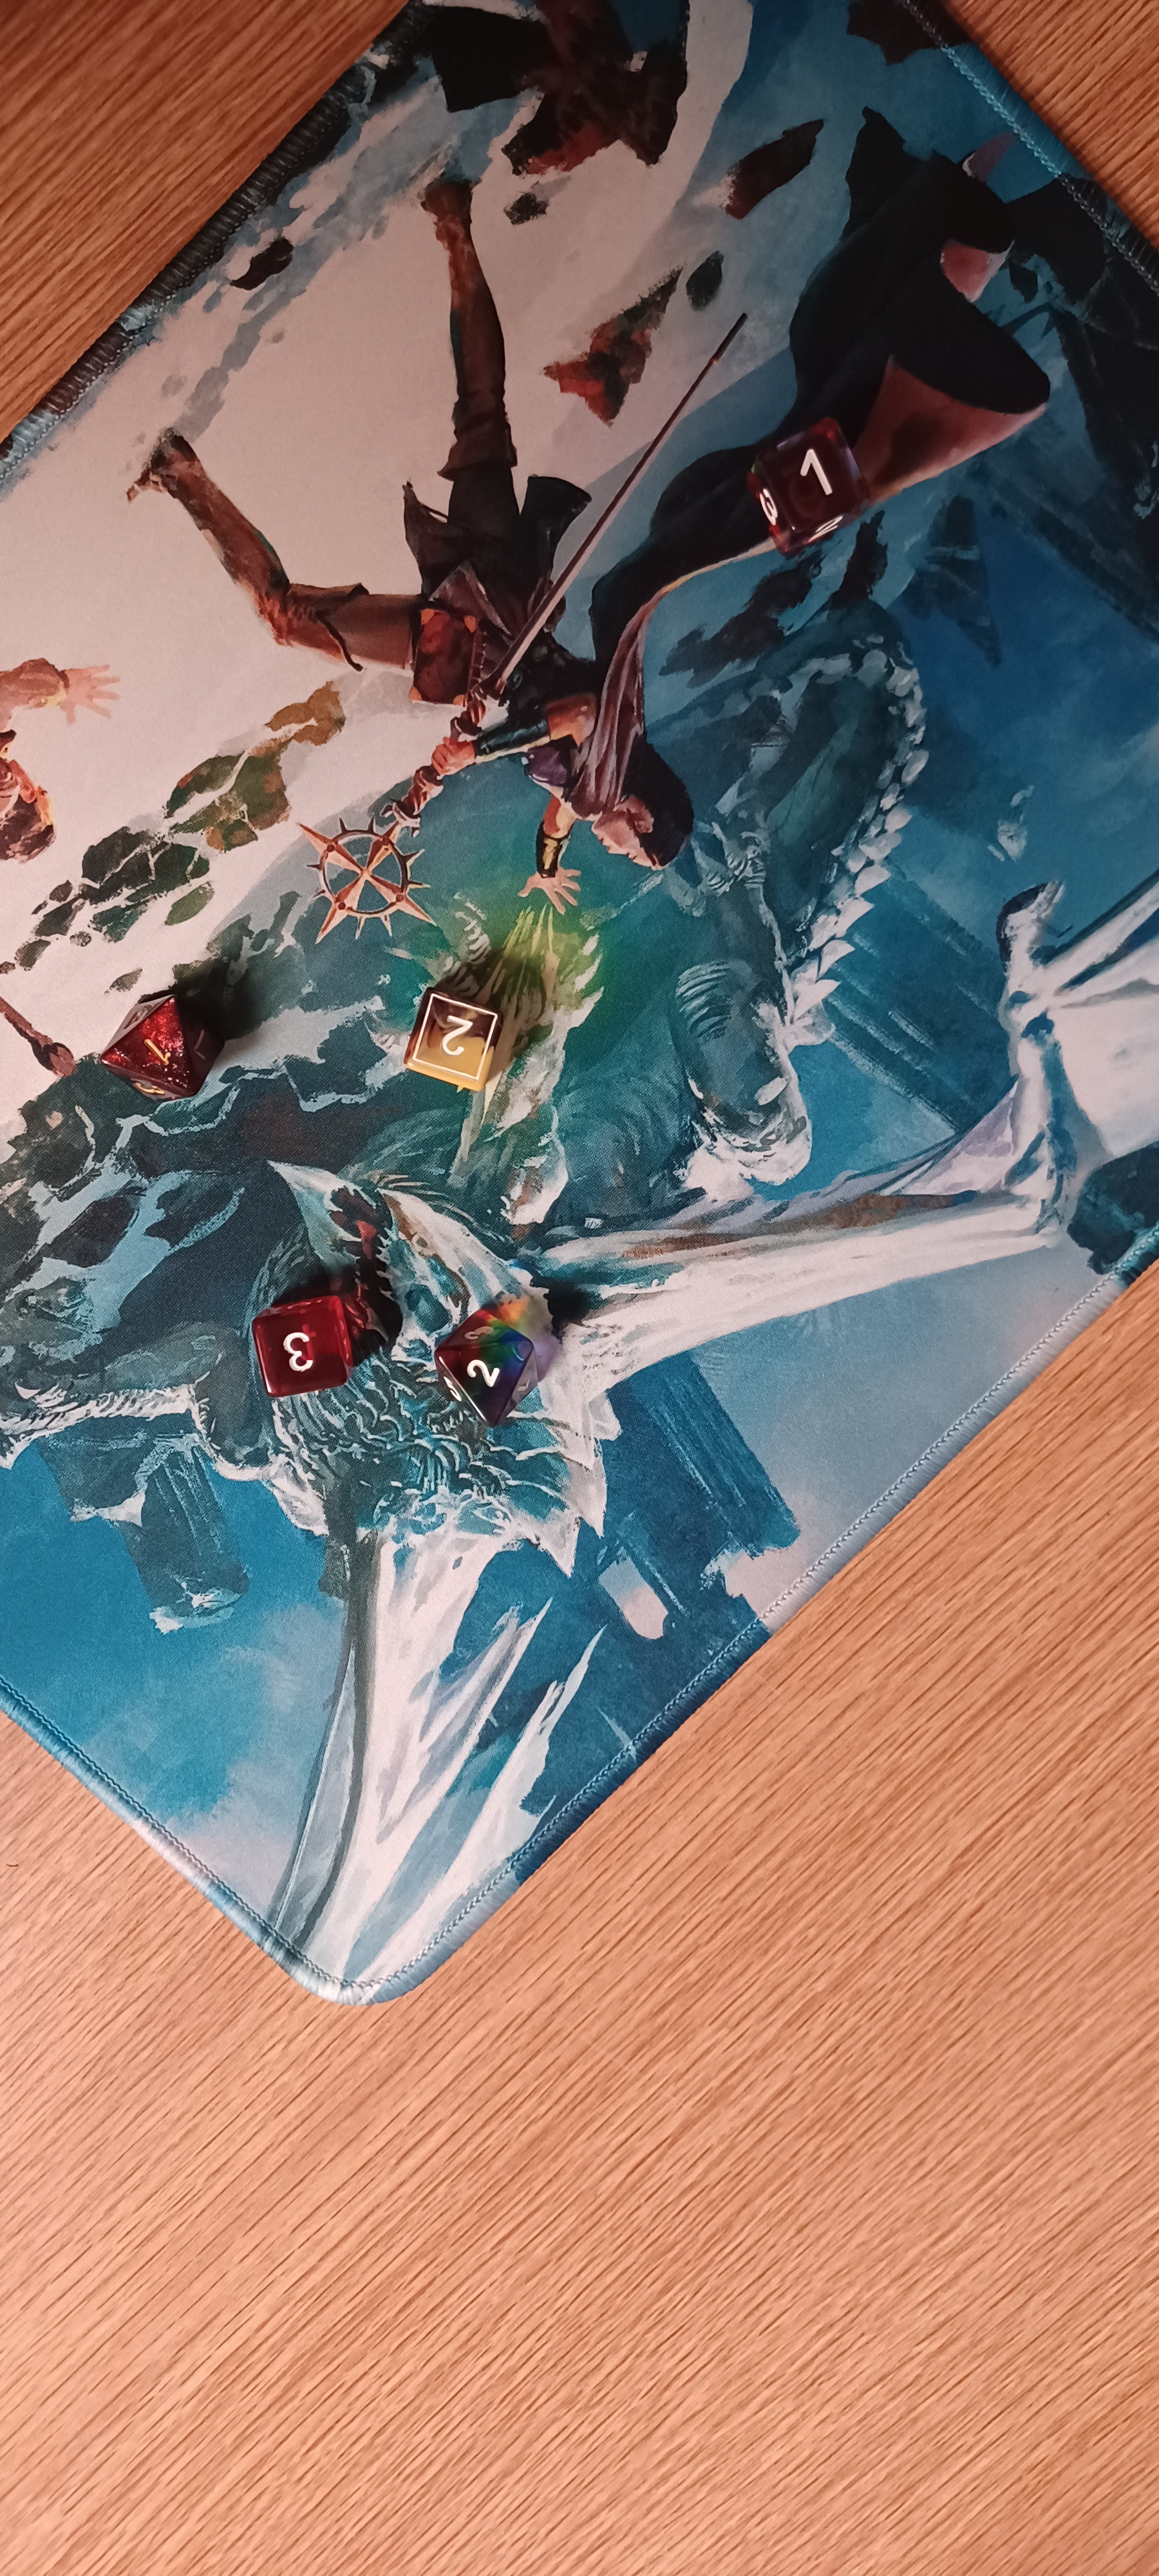one: (714, 383, 900, 577), (90, 977, 240, 1148)
three: (212, 1265, 401, 1419)
two: (356, 946, 543, 1125), (399, 1281, 578, 1436)
